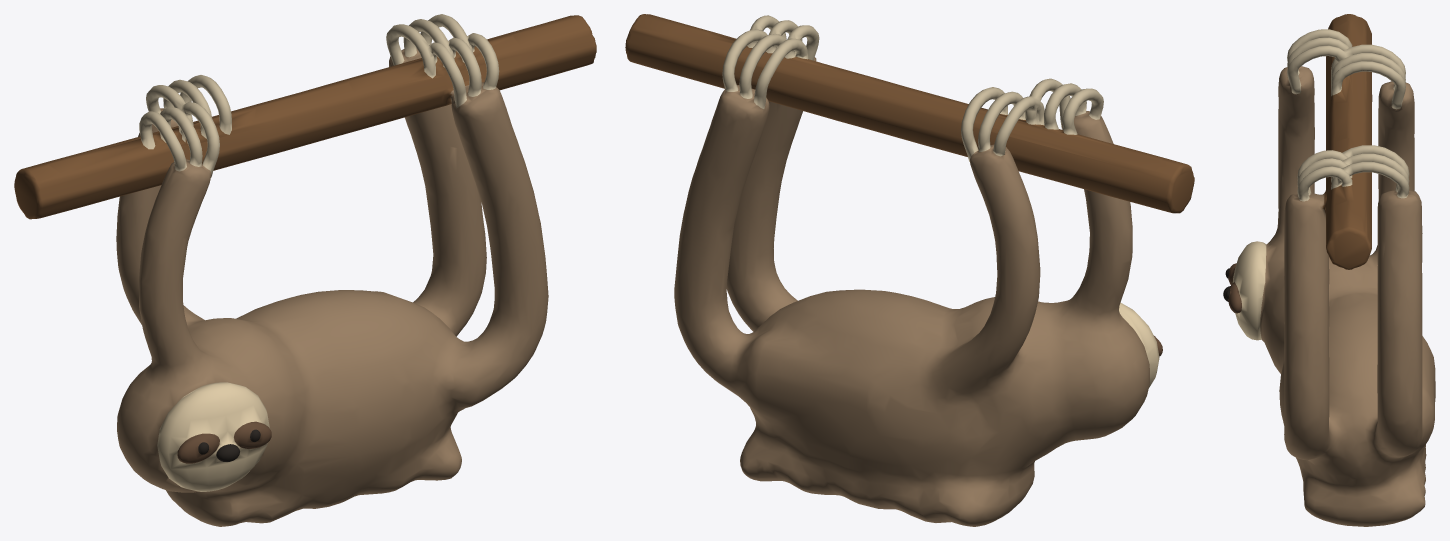
The model's file is NEW_RECOVERY_130_LOD0.glb.
3 views of the same model, side by side, from view 1: azimuth 30°, elevation 25°; view 2: azimuth 150°, elevation 25°; view 3: azimuth 270°, elevation 25° (orthographic). The views are drawn at different scales.
Parts seen in each view (by area): view 1: whole_sloth_supported; view 2: whole_sloth_supported; view 3: whole_sloth_supported.
Boxes of the visible parts, <box> form: whole_sloth_supported: <box>14,14,596,526</box>; whole_sloth_supported: <box>625,14,1194,526</box>; whole_sloth_supported: <box>1223,14,1435,526</box>.
Size of the model in its own units: 3.26 by 2.45 by 1.25.
